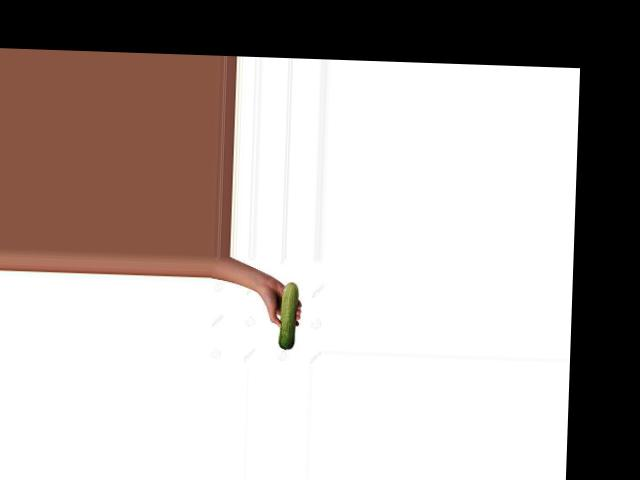cucumber: (277, 281, 297, 350)
